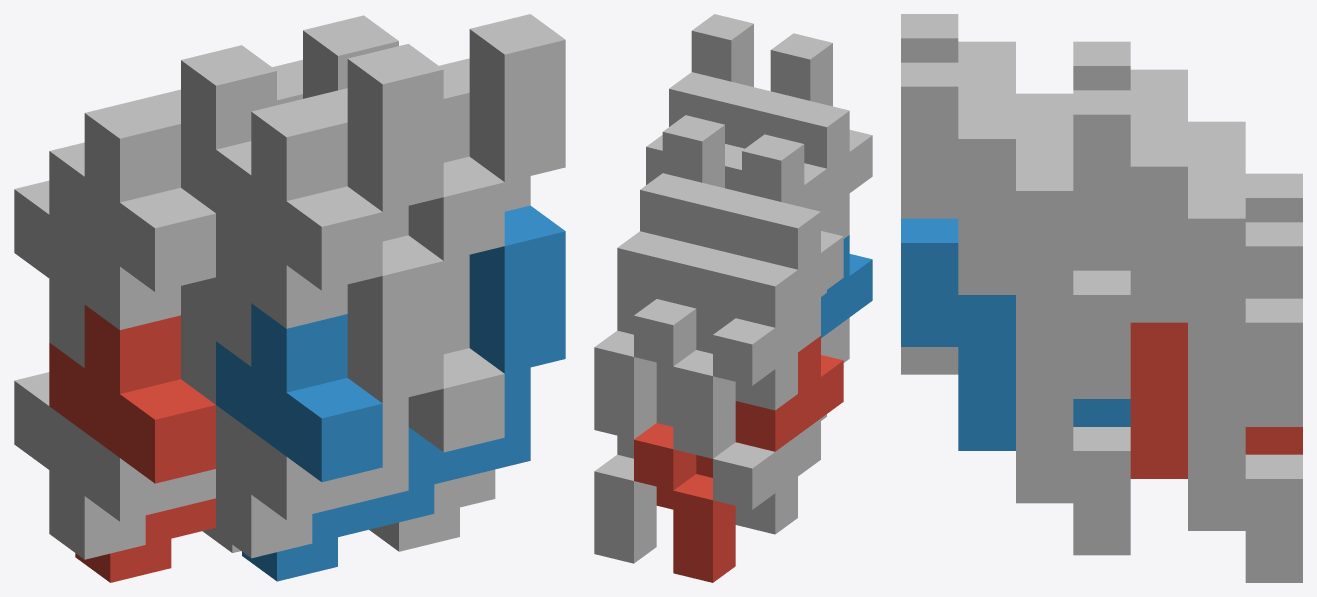
File: tiling.obj
3 renders of one model, left to right at view 1: azimuth 30°, elevation 25°; view 2: azimuth 150°, elevation 25°; view 3: azimuth 270°, elevation 25°, orthographic. The views are drawn at different scales.
Visible parts, largest first — view 1: copy_2_domain_2, copy_2_domain_4, copy_1_domain_1, copy_1_domain_2, copy_2_domain_3, copy_1_domain_4, copy_1_domain_3, copy_2_domain_6, copy_2_domain_1, copy_2_domain_8, copy_1_domain_6, copy_1_domain_8 (+1 smaller); view 2: copy_1_domain_3, copy_1_domain_7, copy_2_domain_3, copy_1_domain_1, copy_2_domain_7, copy_2_domain_1, copy_1_domain_4, copy_1_domain_5, copy_2_domain_4, copy_2_domain_8, copy_2_domain_5, copy_1_domain_8 (+2 smaller); view 3: copy_1_domain_8, copy_2_domain_7, copy_2_domain_8, copy_1_domain_7, copy_1_domain_6, copy_2_domain_6, copy_1_domain_5, copy_2_domain_5, copy_2_domain_3, copy_1_domain_4, copy_2_domain_4, copy_1_domain_3.
Boxes of the visible parts, x1,y1,x2,y2 form: copy_2_domain_2: (216, 235, 443, 558); copy_2_domain_4: (216, 44, 443, 366); copy_1_domain_1: (49, 305, 215, 582); copy_1_domain_2: (216, 303, 382, 581); copy_2_domain_3: (14, 45, 276, 367); copy_1_domain_4: (216, 97, 382, 290); copy_1_domain_3: (49, 98, 215, 291); copy_2_domain_6: (373, 205, 565, 528); copy_2_domain_1: (14, 277, 215, 559); copy_2_domain_8: (439, 14, 565, 290); copy_1_domain_6: (369, 284, 504, 551); copy_1_domain_8: (408, 74, 504, 260); copy_1_domain_3: (673, 202, 843, 458); copy_1_domain_7: (594, 183, 741, 439); copy_2_domain_3: (713, 134, 820, 410); copy_1_domain_1: (673, 336, 843, 582); copy_2_domain_7: (634, 115, 724, 385); copy_2_domain_1: (713, 418, 820, 534); copy_1_domain_4: (725, 101, 872, 213); copy_1_domain_5: (594, 381, 673, 563); copy_2_domain_4: (748, 33, 849, 296); copy_2_domain_8: (669, 14, 753, 126); copy_2_domain_5: (634, 423, 696, 509); copy_1_domain_8: (646, 81, 770, 184); copy_1_domain_8: (901, 90, 1130, 398); copy_2_domain_7: (1073, 90, 1302, 322); copy_2_domain_8: (901, 62, 1130, 294); copy_1_domain_7: (1130, 118, 1302, 426); copy_1_domain_6: (901, 347, 1130, 555); copy_2_domain_6: (901, 218, 1130, 450); copy_1_domain_5: (1188, 374, 1302, 582); copy_2_domain_5: (1130, 322, 1302, 478); copy_2_domain_3: (1073, 41, 1302, 222); copy_1_domain_4: (958, 41, 1073, 142); copy_2_domain_4: (901, 14, 1015, 90); copy_1_domain_3: (1130, 69, 1245, 169).
Bounding box in the file's own units: 5 × 10 × 7.
